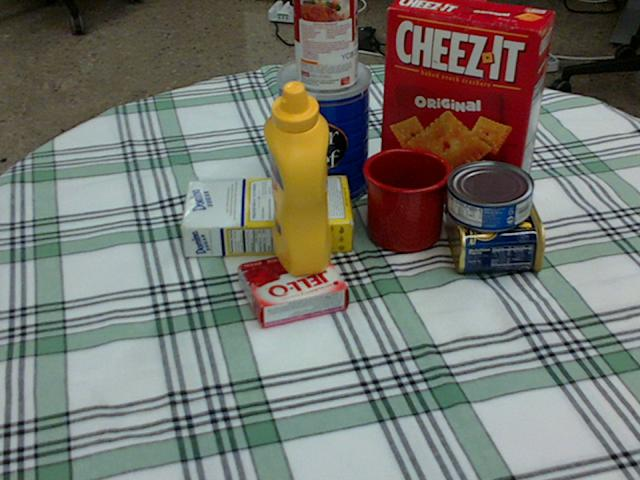cracker_box: (379, 0, 556, 213)
gelatin_box: (240, 248, 349, 327)
master_chef_can: (276, 55, 370, 207)
mug: (363, 146, 454, 251)
mustard_bottle: (263, 80, 331, 275)
potted_meat_can: (446, 181, 544, 268)
sugar_box: (180, 174, 352, 256)
tomato_soup_can: (293, 0, 359, 91)
tuna_fish_can: (446, 162, 533, 230)
